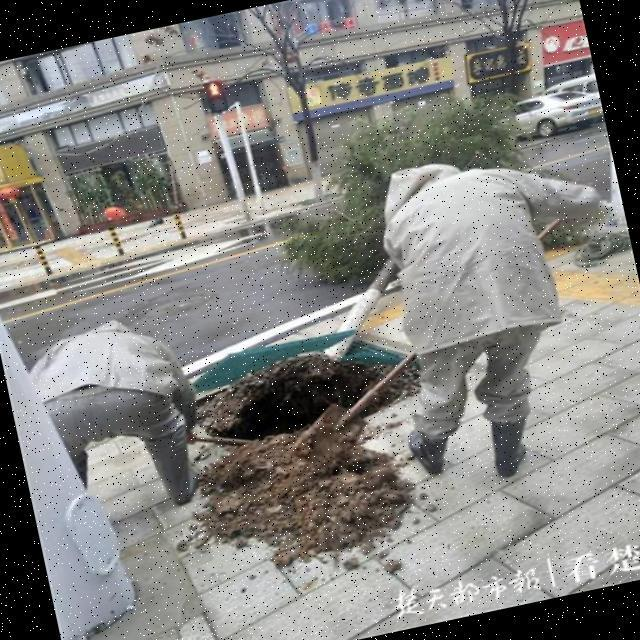fallen_object: (160, 70, 610, 437)
